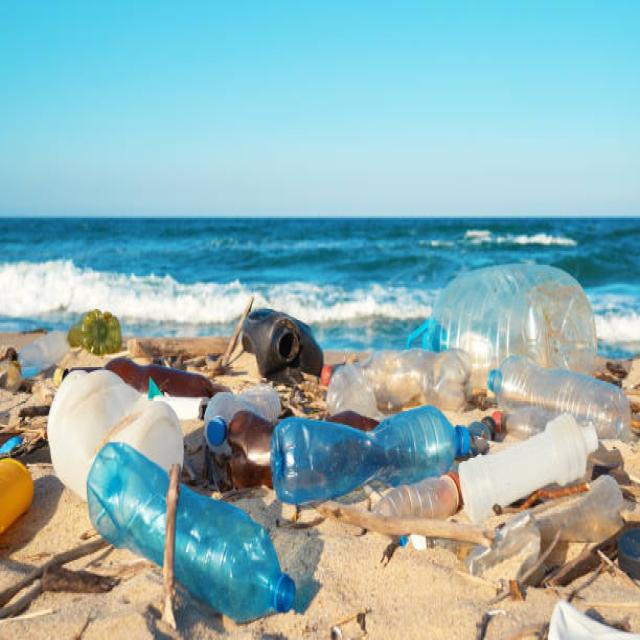plastic: (67, 396, 275, 588), (423, 268, 619, 433)
